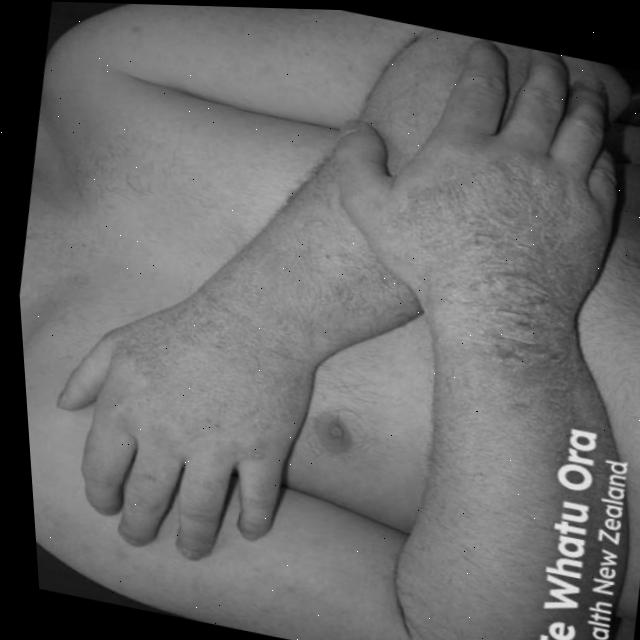Eczema: (102, 204, 414, 498), (438, 193, 604, 401)
